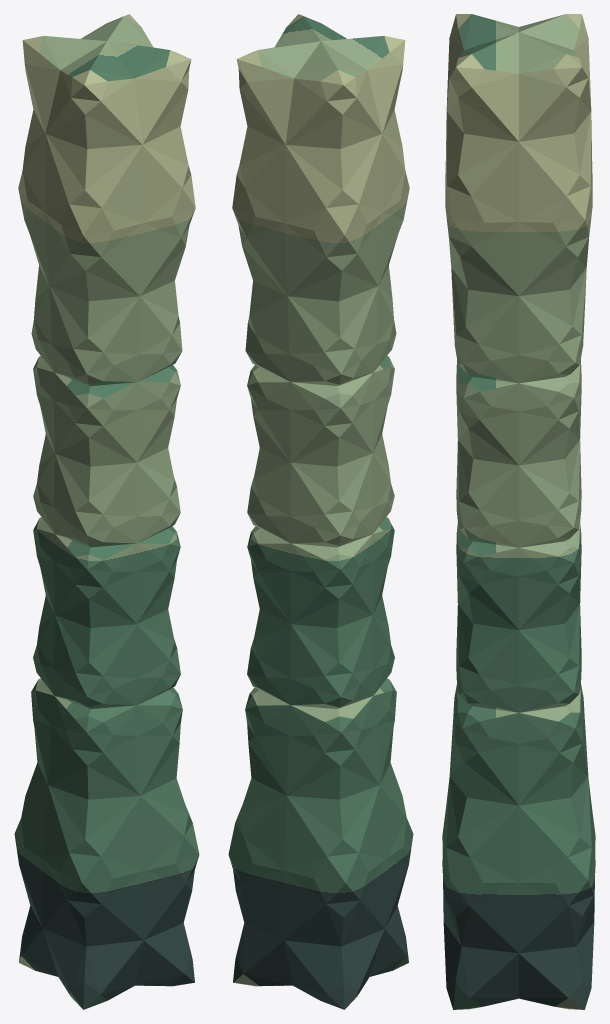
The model's file is Pillar 2.003.fbx.
3 views of the same model, side by side, from view 1: azimuth 30°, elevation 25°; view 2: azimuth 150°, elevation 25°; view 3: azimuth 270°, elevation 25° (orthographic).
Visible parts, largest first — view 1: Pillar 2.003; view 2: Pillar 2.003; view 3: Pillar 2.003.
Part boxes in pixels (left/top/right/bottom): Pillar 2.003: left=14, top=14, right=199, bottom=1009; Pillar 2.003: left=228, top=14, right=413, bottom=1009; Pillar 2.003: left=442, top=14, right=595, bottom=1009.
Bounding box in the file's own units: 84.26 × 582 × 84.26.
